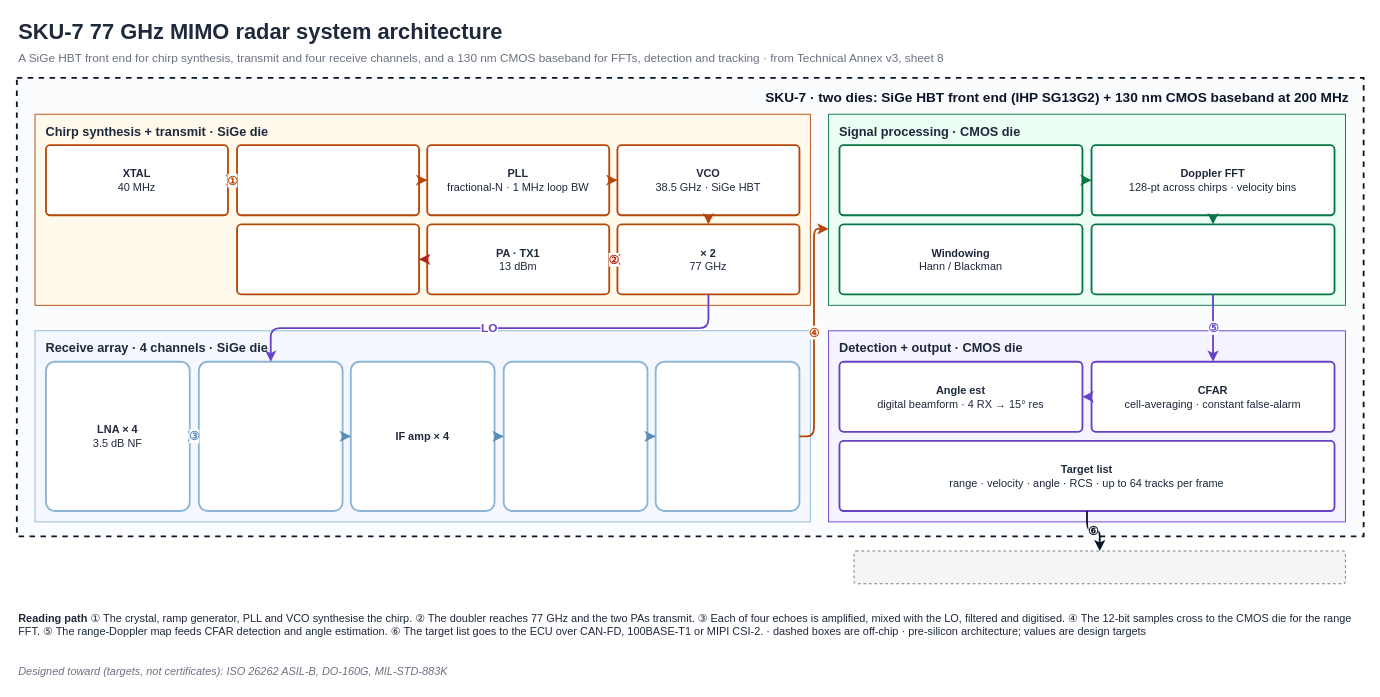
Some shapes in this 1380 by 697 pixel diagram are drawn without their labels. Each missing label, with the centre of its shape:
"AAF × 4 10 MHz LP" belongs at (575,435).
"ADC × 4 12-bit · 40 MSPS" belongs at (727,435).
"Mixer × 4 LO from the × 2" belongs at (270,435).
"PA · TX2 13 dBm" belongs at (328,259).
"Ramp gen chirp profile · sawtooth / triangle" belongs at (328,180).
"Range FFT 1024-pt radix-4 · 26 µs per chirp" belongs at (960,180).
"Range-Doppler map buffer · SRAM 512 KB" belongs at (1212,259).
"To the ECU · CAN-FD · 100BASE-T1 · MIPI CSI-2" belongs at (1099,567).
